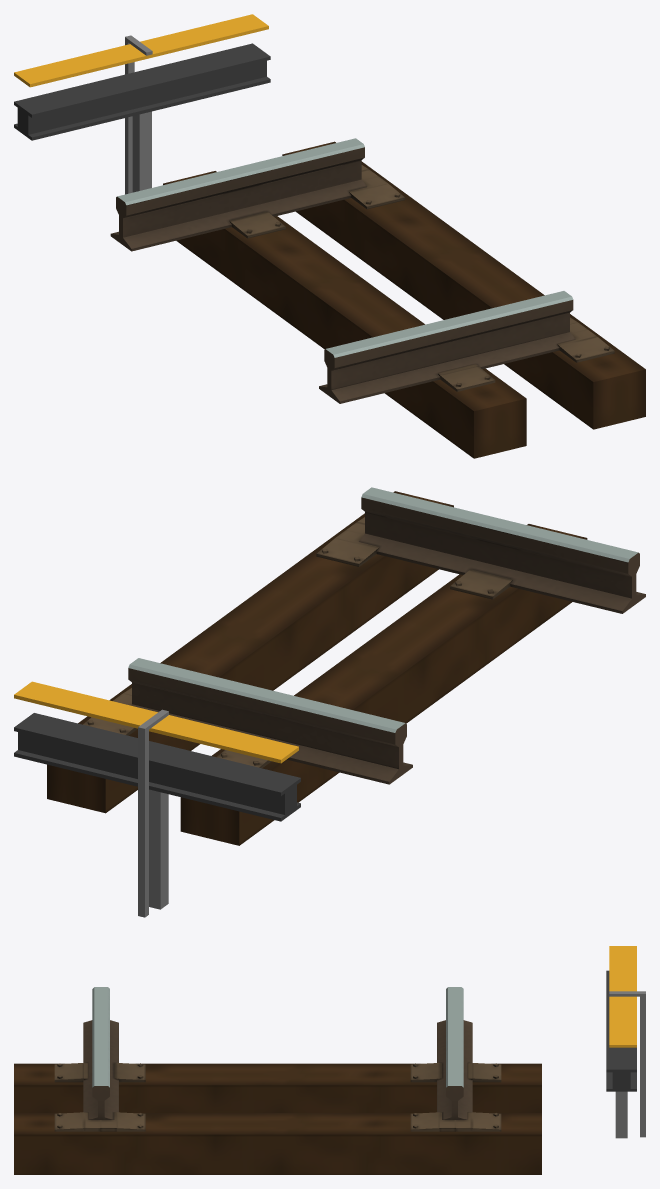
Rendered from spsf_3rdrail.obj.
3 renders of one model, top to bottom at view 1: azimuth 30°, elevation 25°; view 2: azimuth 150°, elevation 25°; view 3: azimuth 270°, elevation 25°, orthographic. The views are drawn at different scales.
Parts seen in each view (by area): view 1: RAIL_BASE.003_RAIL_BASE.006, RAIL_BASE.006_RAIL_BASE.004, RAIL_LEFT_Cube.002, RAIL_RIGHT_Cube.010, RAIL_BASE.002_RAIL_BASE.007, RAIL_BASE.004_RAIL_BASE.008, RAIL_BASE.005_Cube.003; view 2: RAIL_BASE.006_RAIL_BASE.004, RAIL_BASE.003_RAIL_BASE.006, RAIL_LEFT_Cube.002, RAIL_RIGHT_Cube.010, RAIL_BASE.002_RAIL_BASE.007, RAIL_BASE.004_RAIL_BASE.008, RAIL_BASE.005_Cube.003; view 3: RAIL_BASE.003_RAIL_BASE.006, RAIL_BASE.004_RAIL_BASE.008, RAIL_BASE.002_RAIL_BASE.007, RAIL_BASE.006_RAIL_BASE.004, RAIL_BASE.005_Cube.003, RAIL_LEFT_Cube.002, RAIL_RIGHT_Cube.010.
Boxes of the visible parts, left/top/right/bottom form: RAIL_BASE.003_RAIL_BASE.006: left=163, top=154, right=593, bottom=458; RAIL_BASE.006_RAIL_BASE.004: left=14, top=14, right=270, bottom=194; RAIL_LEFT_Cube.002: left=319, top=291, right=575, bottom=403; RAIL_RIGHT_Cube.010: left=110, top=138, right=366, bottom=251; RAIL_BASE.002_RAIL_BASE.007: left=282, top=141, right=645, bottom=429; RAIL_BASE.004_RAIL_BASE.008: left=163, top=171, right=526, bottom=458; RAIL_BASE.005_Cube.003: left=229, top=165, right=614, bottom=391; RAIL_BASE.006_RAIL_BASE.004: left=14, top=681, right=300, bottom=917; RAIL_BASE.003_RAIL_BASE.006: left=105, top=505, right=587, bottom=845; RAIL_LEFT_Cube.002: left=359, top=487, right=645, bottom=613; RAIL_RIGHT_Cube.010: left=128, top=658, right=412, bottom=784; RAIL_BASE.002_RAIL_BASE.007: left=47, top=491, right=453, bottom=813; RAIL_BASE.004_RAIL_BASE.008: left=180, top=524, right=586, bottom=845; RAIL_BASE.005_Cube.003: left=83, top=517, right=512, bottom=768; RAIL_BASE.003_RAIL_BASE.006: left=14, top=1085, right=541, bottom=1174; RAIL_BASE.004_RAIL_BASE.008: left=14, top=1063, right=541, bottom=1085; RAIL_BASE.002_RAIL_BASE.007: left=14, top=1113, right=541, bottom=1134; RAIL_BASE.006_RAIL_BASE.004: left=606, top=946, right=645, bottom=1138; RAIL_BASE.005_Cube.003: left=54, top=1063, right=501, bottom=1131; RAIL_LEFT_Cube.002: left=83, top=987, right=118, bottom=1119; RAIL_RIGHT_Cube.010: left=437, top=987, right=472, bottom=1119.
Bounding box in the file's own units: 1.11 × 0.6752 × 2.7.
Materials: 2 (2 with a texture image).
